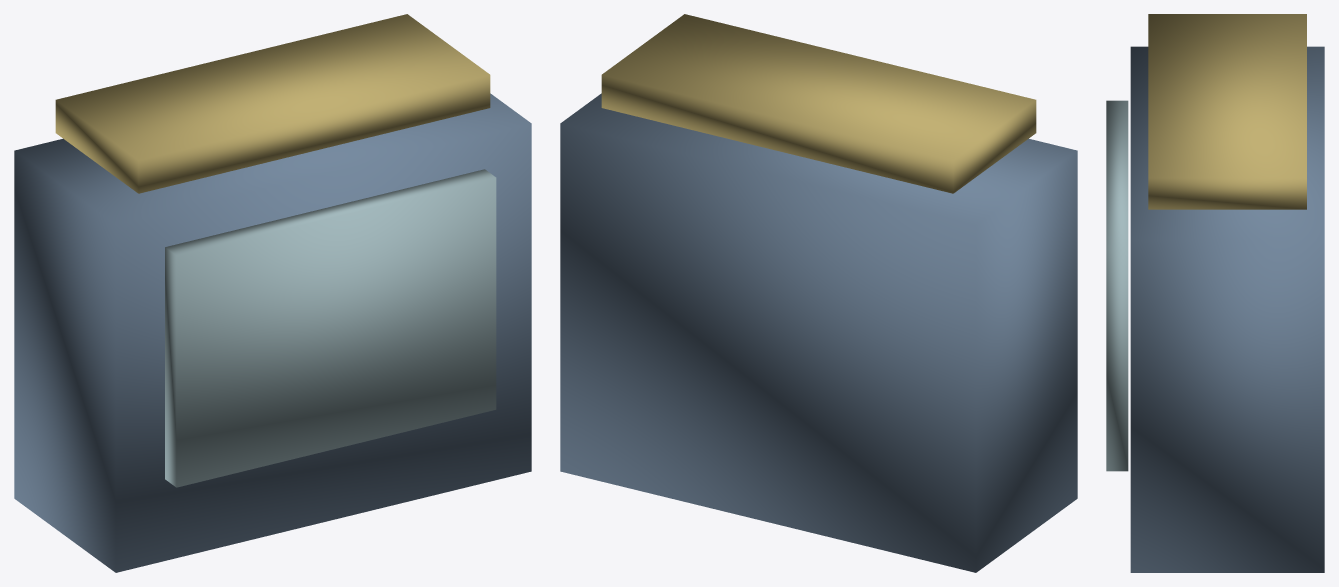
The model's file is lottery_counter_display__reinforced.glb.
3 views of the same model, side by side, from view 1: azimuth 30°, elevation 25°; view 2: azimuth 150°, elevation 25°; view 3: azimuth 270°, elevation 25° (orthographic). The views are drawn at different scales.
Visible parts, largest first — view 1: world; view 2: world; view 3: world.
Boxes of the visible parts, x1,y1,x2,y2 form: world: (14, 14, 531, 572); world: (560, 14, 1077, 572); world: (1106, 14, 1324, 572).
Size of the model in its own units: 0.5356 by 0.4896 by 0.2549.
